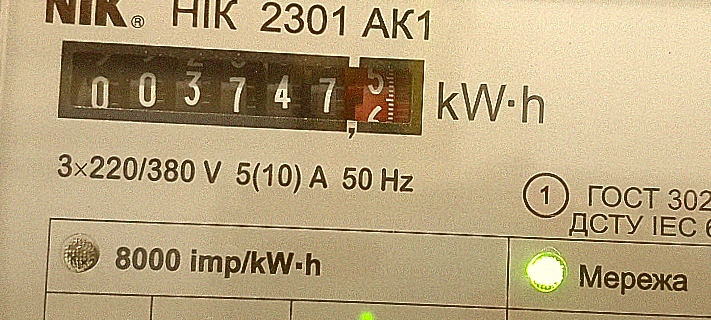0: (135, 68, 157, 107), (88, 73, 111, 108)
3: (181, 68, 202, 106)
4: (270, 70, 292, 111)
5: (365, 65, 385, 95)
6: (364, 101, 383, 123)
7: (314, 73, 338, 113), (225, 73, 246, 113)
screen: (47, 28, 440, 150)
